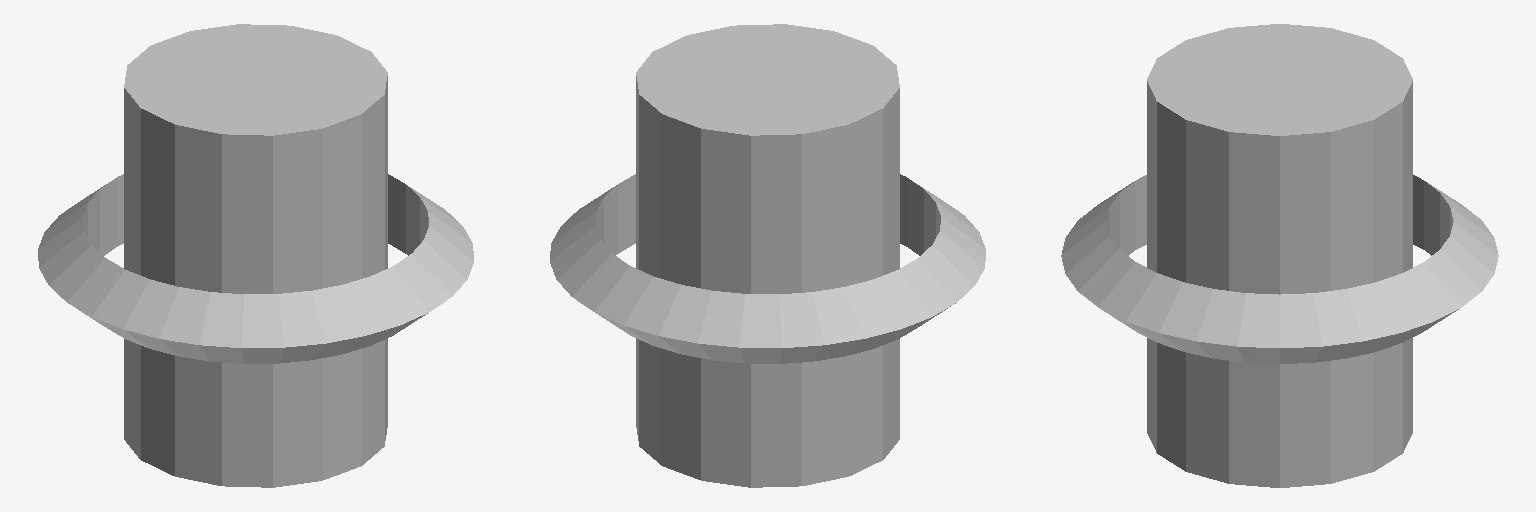
File: mb_bumper.obj
3 renders of one model, left to right at view 1: azimuth 30°, elevation 25°; view 2: azimuth 150°, elevation 25°; view 3: azimuth 270°, elevation 25°, orthographic.
Visible parts, largest first — view 1: mb_bumper; view 2: mb_bumper; view 3: mb_bumper.
Part boxes in pixels (x1,y1,x2,y2): mb_bumper: (38,24,473,487); mb_bumper: (550,24,985,487); mb_bumper: (1061,24,1498,487).
Size of the model in its own units: 0.7887 by 0.7 by 0.7887.